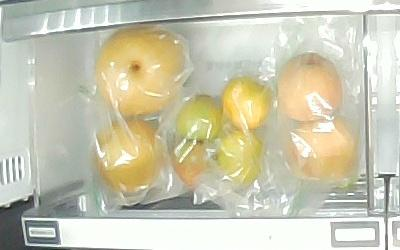peach_vinyl: (276, 53, 342, 122), (288, 117, 357, 181)
pear_vinyl: (96, 25, 185, 118), (93, 119, 165, 194)
tangerine_vinyl: (221, 77, 271, 132), (217, 132, 261, 186)
tomato_vinyl: (175, 93, 224, 142), (170, 138, 212, 188)
